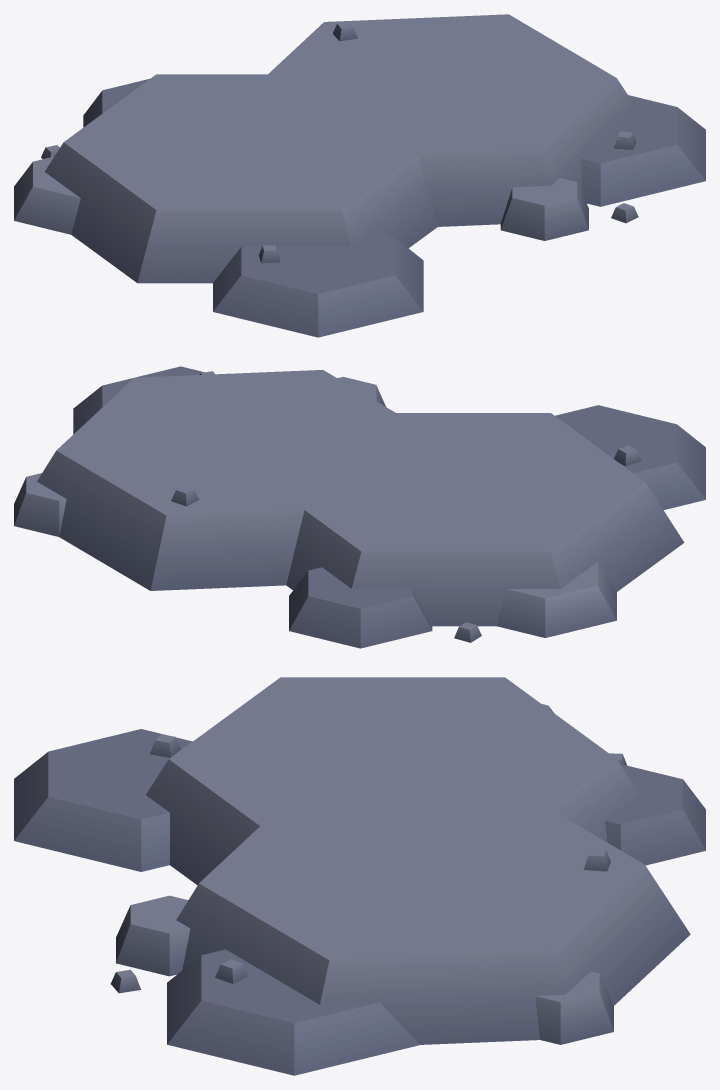
File: pedra grande chao cinza.glb
The picture shows the model from 3 angles, top to bottom: view 1: azimuth 30°, elevation 25°; view 2: azimuth 150°, elevation 25°; view 3: azimuth 270°, elevation 25°; orthographic projection. The views are drawn at different scales.
Visible parts, largest first — view 1: rock-flat; view 2: rock-flat; view 3: rock-flat.
Boxes of the visible parts, x1,y1,x2,y2 form: rock-flat: [14, 14, 705, 337]; rock-flat: [14, 366, 705, 648]; rock-flat: [14, 677, 705, 1075].
Bounding box in the file's own units: 1.79 × 0.195 × 1.45.
1 material, 1 textured.
